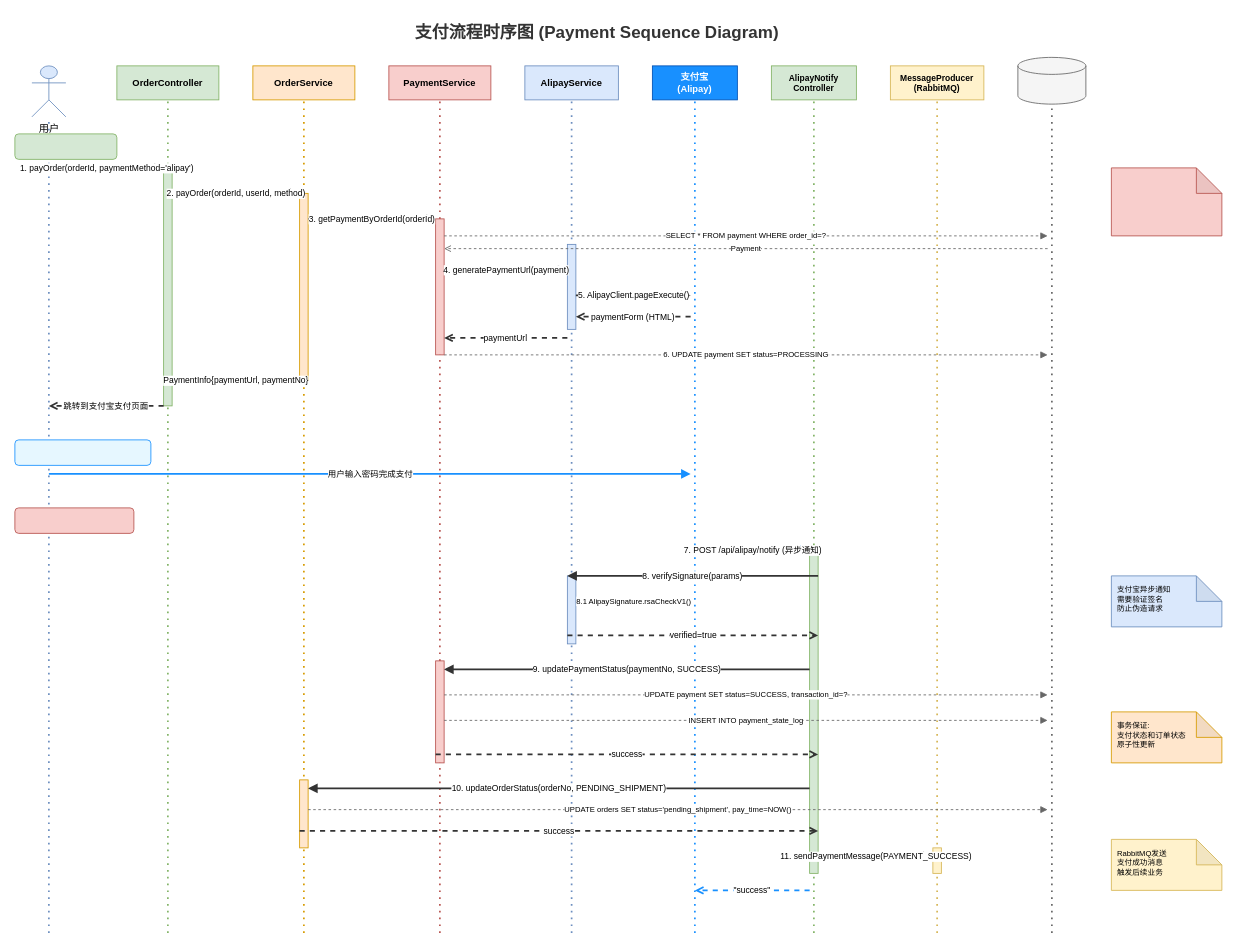
Image size: 1237x949. Some labels were removed from this diagram. Each missing label, with the box of its shape:
1. 用户发起支付: (14, 133, 117, 159)
2. 用户在支付宝完成支付: (14, 439, 151, 465)
3. 支付宝异步通知: (14, 507, 134, 533)
Database (MySQL): (1017, 57, 1086, 104)
支付方式支持: - alipay (支付宝) - wechat (微信) - wallet (钱包余额): (1111, 167, 1222, 236)
